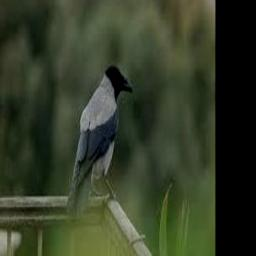Crow: (66, 63, 133, 216)
